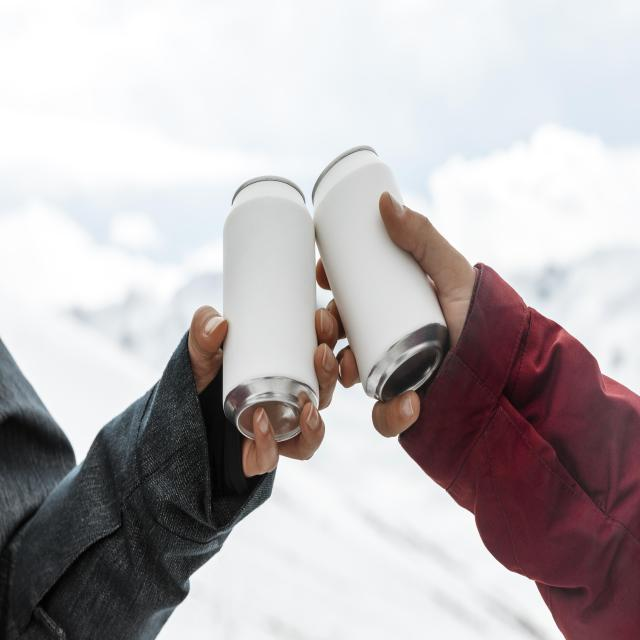can: (310, 146, 453, 406), (220, 174, 320, 445)
